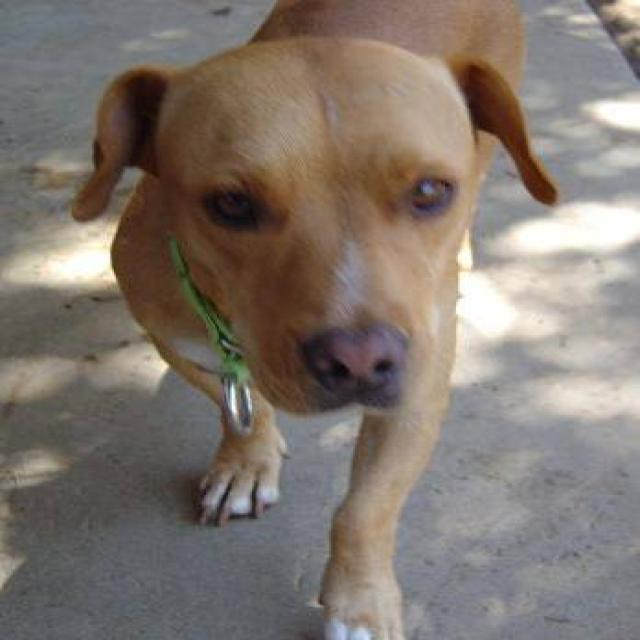dog: (68, 0, 559, 638)
